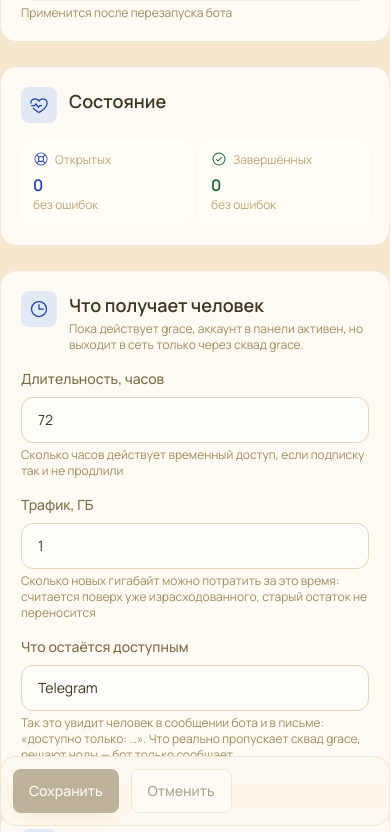
Test: раздел grace-доступа › ошибка сервера показывается, а не проглатывается
This screenshot has width=390, height=832.
(page scrolled)
Replace the text in the number field labelled "Длительность, часов" with "48" at [195, 420], box top-left (21, 397), bottom-right (369, 443)
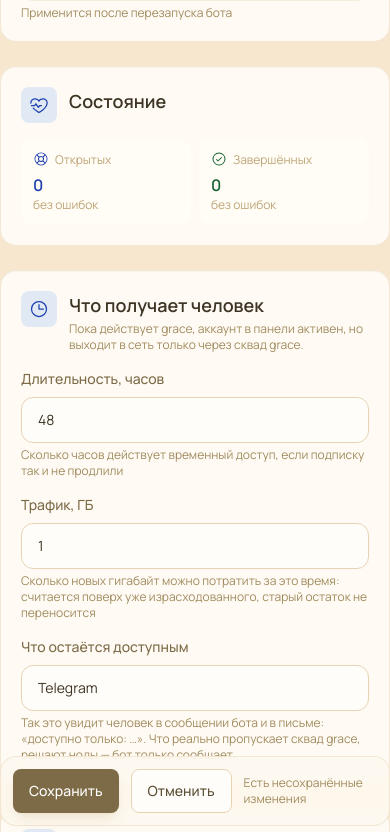
Click the button "Сохранить" at [66, 791], box top-left (13, 769), bottom-right (119, 813)
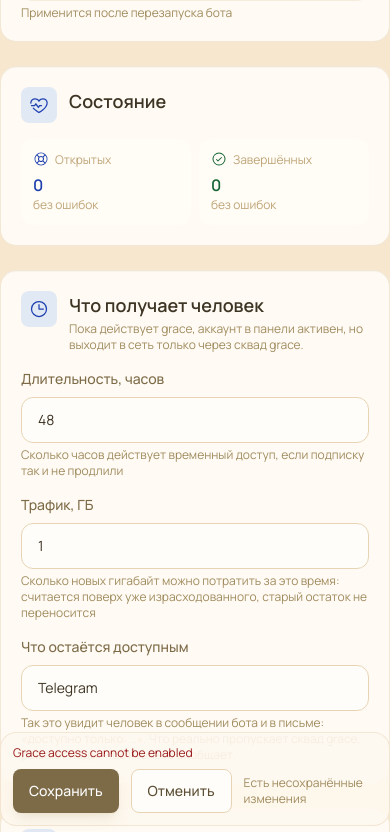
expect the text "Grace access cannot be enabled" is shown: met, box top-left (13, 744), bottom-right (193, 761)
